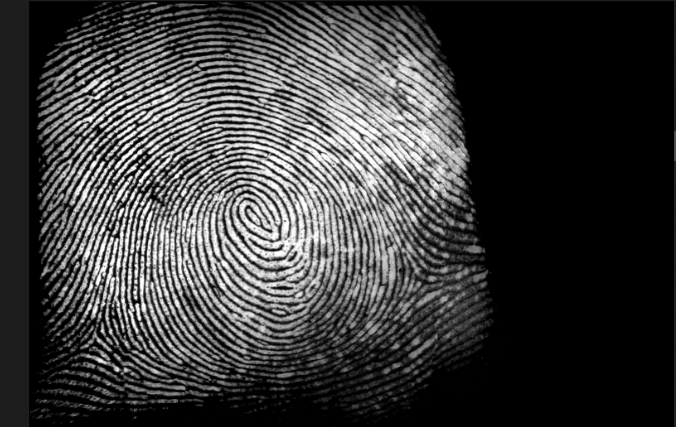deltas: (68, 306, 120, 368), (386, 243, 440, 302)
nucleo: (232, 189, 289, 242)
